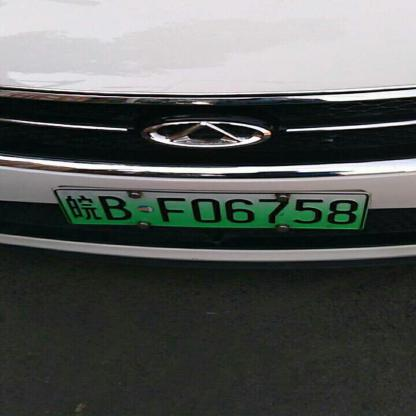lp: (54, 192, 74, 230)
